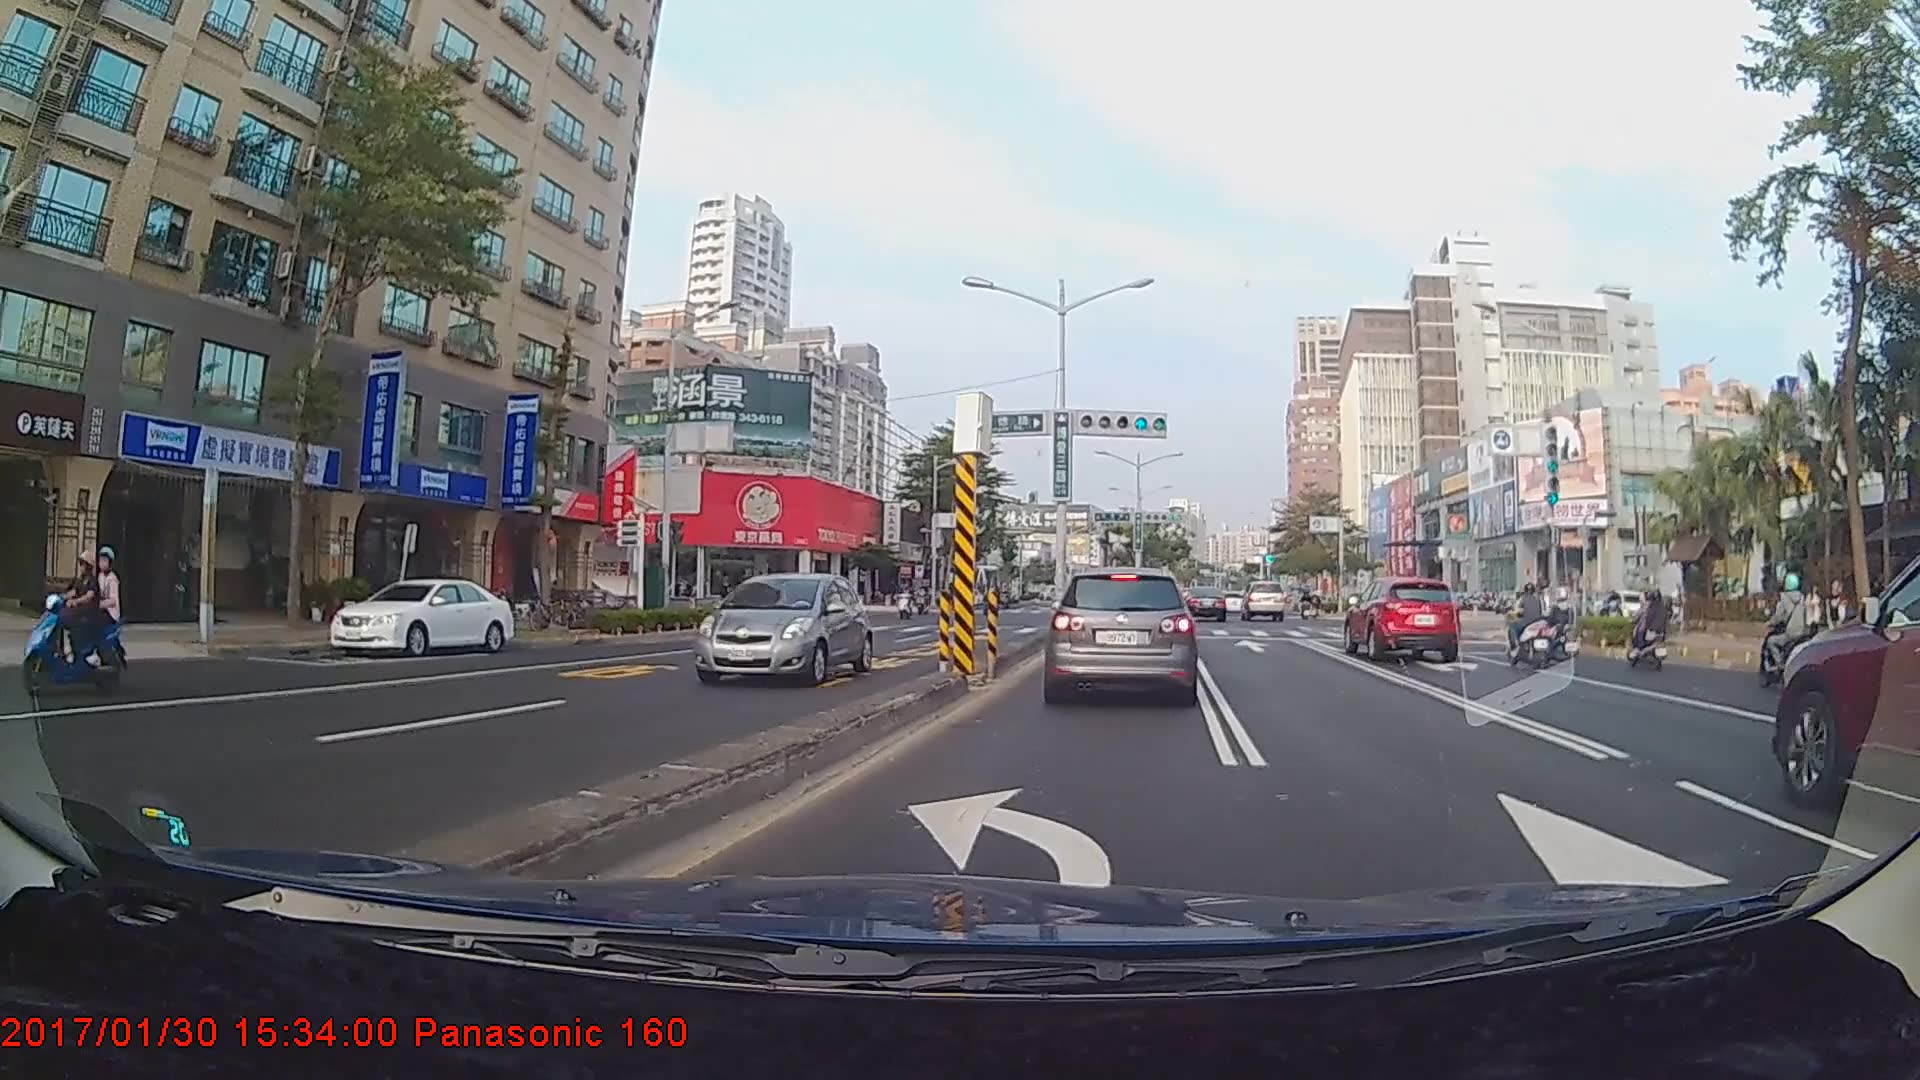pedestrian: (1778, 581, 1803, 652), (1804, 584, 1826, 649)
rider: (28, 545, 126, 695), (1760, 574, 1826, 687), (1500, 581, 1559, 670), (1619, 589, 1672, 671)
vehicle: (1769, 536, 1917, 841), (690, 571, 873, 686), (1045, 564, 1195, 703), (326, 576, 514, 657), (1345, 573, 1462, 662), (1241, 579, 1286, 622), (1181, 586, 1224, 622)
